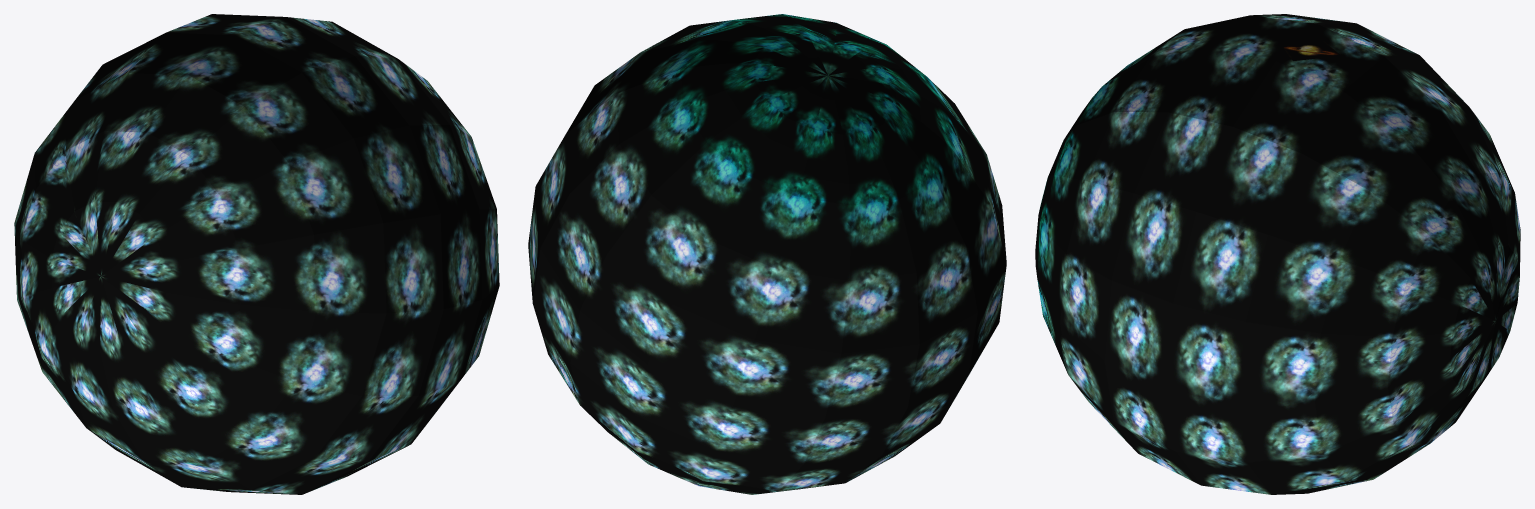
File: vrcorn.glb
3 views of the same model, side by side, from view 1: azimuth 30°, elevation 25°; view 2: azimuth 150°, elevation 25°; view 3: azimuth 270°, elevation 25° (orthographic).
Visible parts, largest first — view 1: polygon0; view 2: polygon0; view 3: polygon0, polygon2.
Boxes of the visible parts, box(x1,y1,x2,y2) form: polygon0: box(14, 14, 499, 494); polygon0: box(528, 14, 1006, 494); polygon0: box(1035, 14, 1520, 494); polygon2: box(1282, 39, 1341, 60).
Bounding box in the file's own units: 5100 × 5056 × 5089.
Materials: 2 (2 with a texture image).
